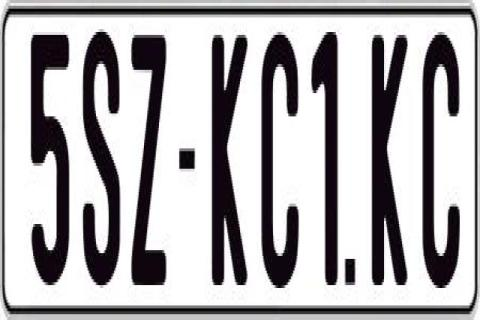0: (28, 35, 70, 294), (310, 32, 340, 288)
C: (261, 27, 303, 280), (423, 26, 461, 291)
K: (372, 35, 410, 297), (212, 26, 246, 294)
S: (82, 27, 122, 286)
Z: (129, 27, 164, 286)
